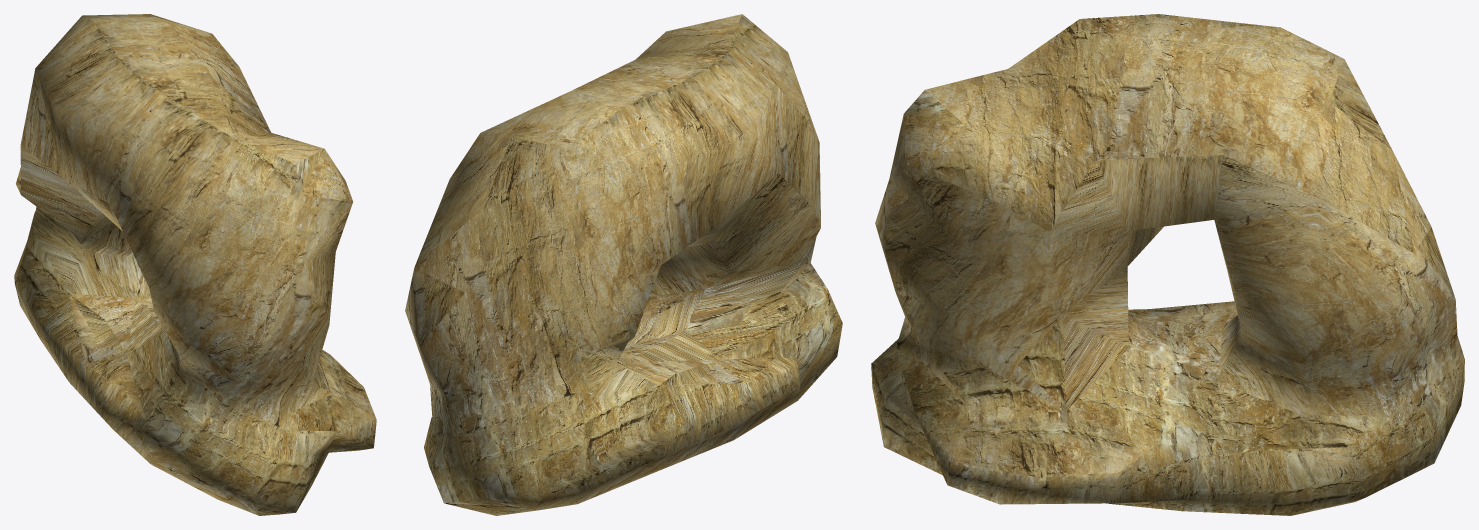
Rendered from Boulder10.dae.
The picture shows the model from 3 angles, left to right: view 1: azimuth 30°, elevation 25°; view 2: azimuth 150°, elevation 25°; view 3: azimuth 270°, elevation 25°; orthographic projection. The views are drawn at different scales.
Visible parts, largest first — view 1: rock0; view 2: rock0; view 3: rock0.
Boxes of the visible parts, x1,y1,x2,y2 form: rock0: [14, 14, 376, 515]; rock0: [405, 14, 842, 515]; rock0: [871, 14, 1464, 515].
Bounding box in the file's own units: 0.8807 × 1.65 × 1.34.
